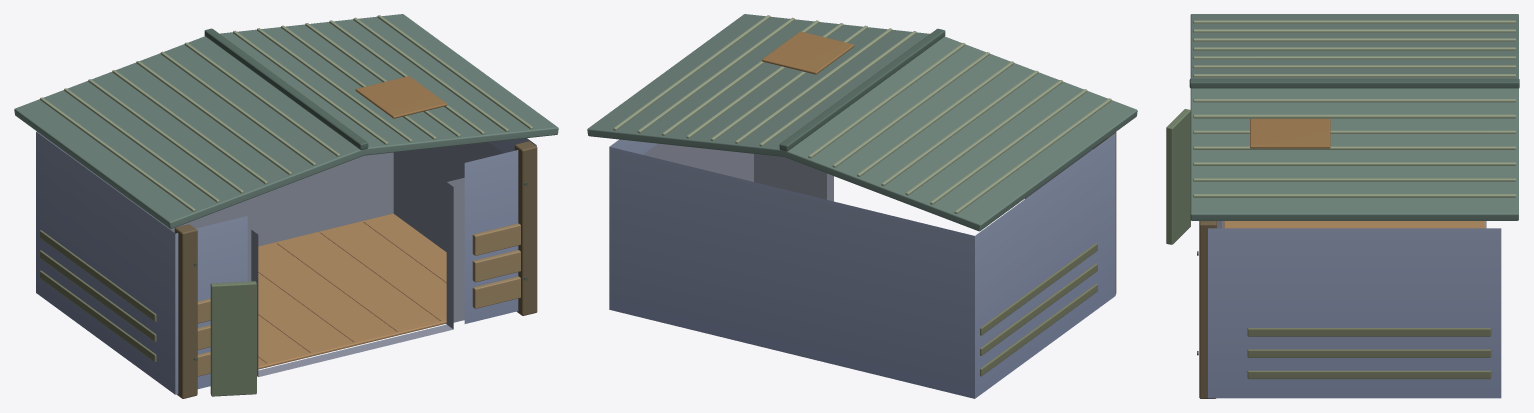
The model's file is weathered-shed-b-C7vJWDg6.glb.
3 views of the same model, side by side, from view 1: azimuth 30°, elevation 25°; view 2: azimuth 150°, elevation 25°; view 3: azimuth 270°, elevation 25° (orthographic). The views are drawn at different scales.
Parts seen in each view (by area): view 1: body_ruined_body_house, roof_old_tin_panel, interior_floor, roof_old_tin_panel.001, body_half_open_shed_door, body_front_corner, body_front_corner.001, roof_rusted_patch, roof_ridge, body_worn_side_board, body_worn_side_board.001, body_worn_side_board.002 (+17 smaller); view 2: body_ruined_body_house, roof_old_tin_panel, roof_old_tin_panel.001, roof_rusted_patch, roof_ridge, body_worn_side_board, body_worn_side_board.001, body_worn_side_board.002, roof_corrugation.001, roof_corrugation.004, roof_corrugation, roof_corrugation.002 (+10 smaller); view 3: body_ruined_body_house, roof_old_tin_panel.001, roof_old_tin_panel, roof_ridge, body_half_open_shed_door, roof_rusted_patch, body_worn_side_board.003, body_worn_side_board.005, body_worn_side_board.004, interior_floor, body_front_corner.001, roof_corrugation.009 (+13 smaller).
Part boxes in pixels (<box>): body_ruined_body_house: <box>36,131,536,394</box>; roof_old_tin_panel: <box>14,36,367,228</box>; interior_floor: <box>258,213,446,369</box>; roof_old_tin_panel.001: <box>220,14,558,155</box>; body_half_open_shed_door: <box>210,281,256,396</box>; body_front_corner: <box>174,224,197,398</box>; body_front_corner.001: <box>514,141,537,315</box>; roof_rusted_patch: <box>355,76,447,118</box>; roof_ridge: <box>204,28,368,149</box>; body_worn_side_board: <box>39,270,156,362</box>; body_worn_side_board.001: <box>39,250,156,341</box>; body_worn_side_board.002: <box>39,230,156,321</box>; body_ruined_body_house: <box>609,133,1115,398</box>; roof_old_tin_panel: <box>780,36,1137,231</box>; roof_old_tin_panel.001: <box>587,14,929,156</box>; roof_rusted_patch: <box>761,31,854,74</box>; roof_ridge: <box>779,28,945,151</box>; body_worn_side_board: <box>980,283,1097,376</box>; body_worn_side_board.001: <box>980,263,1097,355</box>; body_worn_side_board.002: <box>980,243,1097,335</box>; roof_corrugation.001: <box>930,89,1087,204</box>; roof_corrugation.004: <box>857,61,1014,176</box>; roof_corrugation: <box>954,98,1111,213</box>; roof_corrugation.002: <box>905,80,1062,195</box>; body_ruined_body_house: <box>1208,221,1501,398</box>; roof_old_tin_panel.001: <box>1190,88,1518,220</box>; roof_old_tin_panel: <box>1190,14,1518,78</box>; roof_ridge: <box>1189,78,1519,88</box>; body_half_open_shed_door: <box>1166,109,1190,244</box>; roof_rusted_patch: <box>1250,118,1330,148</box>; body_worn_side_board.003: <box>1247,370,1491,379</box>; body_worn_side_board.005: <box>1247,328,1491,336</box>; body_worn_side_board.004: <box>1247,349,1491,357</box>; interior_floor: <box>1223,221,1485,228</box>; body_front_corner.001: <box>1199,221,1216,398</box>; roof_corrugation.009: <box>1193,114,1515,118</box>.
Size of the model in its own units: 323 by 172 by 241.
12 materials, 1 textured.
